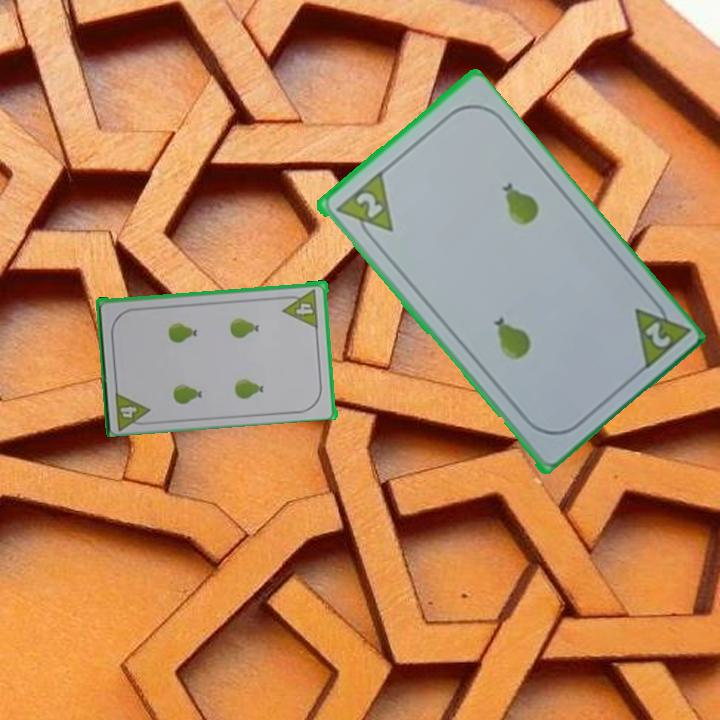2p: (629, 291, 691, 374), (351, 188, 385, 222)
4p: (111, 386, 154, 431), (280, 285, 321, 330)
